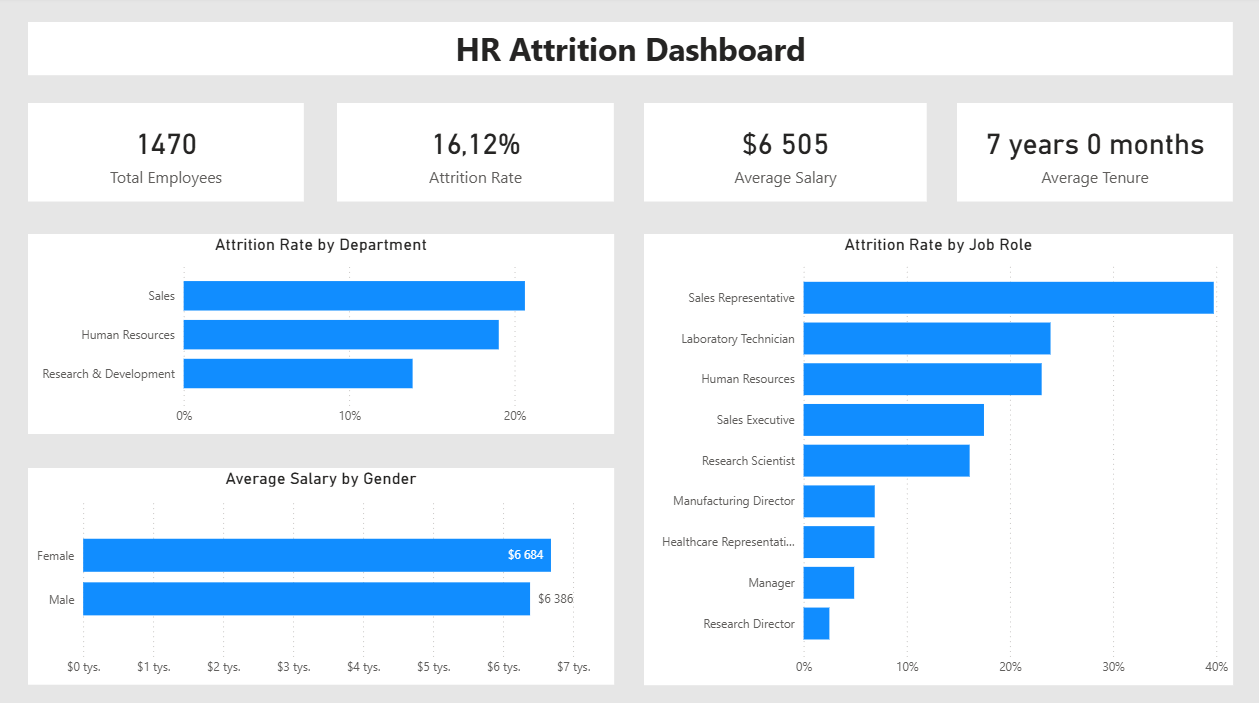

The page's visual inventory and layout, read from the dashboard file:
{"tool":"powerbi","page":{"name":"Overview","canvas":[1280,720],"ordinal":0},"visuals":[{"type":"card","fields":{"Values":["FactEmployee.Total Employees"]},"box":[28.4,107.6,280.2,100.5],"z":0},{"type":"card","fields":{"Values":["FactEmployee.Attrition Rate"]},"box":[342.1,107.6,281.2,100.5],"z":1000},{"type":"card","fields":{"Values":["FactEmployee.Average Salary"]},"box":[653.7,107.6,287.3,100.5],"z":2000},{"type":"card","title":"Average Tenure","fields":{"Values":["FactEmployee.Average Tenure Display"]},"box":[971.4,107.6,280.2,100.5],"z":3000},{"type":"barChart","title":"Attrition Rate by Department","fields":{"Y":["FactEmployee.Attrition Rate"],"Category":["DimDepartment.Department"]},"box":[28.4,240.6,594.8,203],"z":4000},{"type":"barChart","title":"Attrition Rate by Job Role","fields":{"Y":["FactEmployee.Attrition Rate"],"Category":["DimJobRole.JobRole"]},"box":[653.7,240.6,597.9,457.8],"z":5000},{"type":"barChart","title":"Average Salary by Gender","fields":{"Y":["FactEmployee.Average Salary"],"Category":["DimGender.Gender"]},"box":[28.4,478.1,594.8,220.3],"z":6000},{"type":"textbox","box":[28.4,25.4,1223.2,53.8],"z":7000}]}

Visuals, with their boxes in screenshot pixels (x1, y1, x2, y2), scaled from the page's 1280x720 canvas onto the 1259x703 screenshot:
card - FactEmployee.Total Employees: (28, 105, 304, 203)
card - FactEmployee.Attrition Rate: (336, 105, 613, 203)
card - FactEmployee.Average Salary: (643, 105, 926, 203)
"Average Tenure" card: (955, 105, 1231, 203)
"Attrition Rate by Department" barChart: (28, 235, 613, 433)
"Attrition Rate by Job Role" barChart: (643, 235, 1231, 682)
"Average Salary by Gender" barChart: (28, 467, 613, 682)
textbox: (28, 25, 1231, 77)
